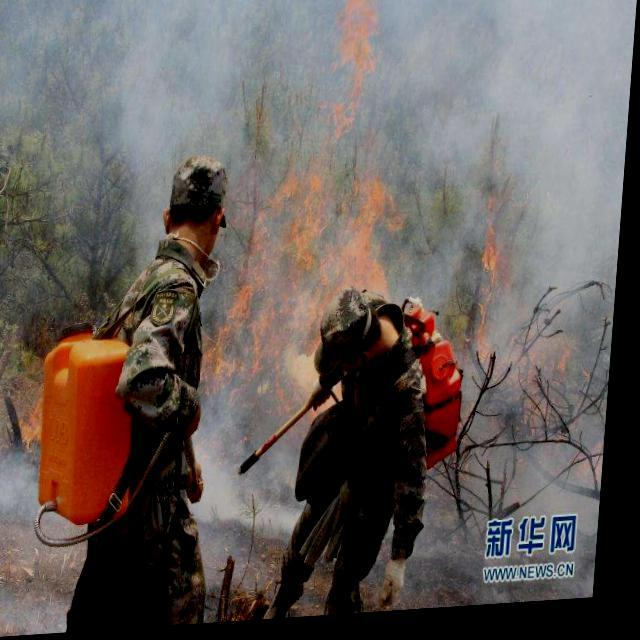Fire: (214, 0, 420, 437), (466, 182, 602, 458), (14, 368, 51, 462)
